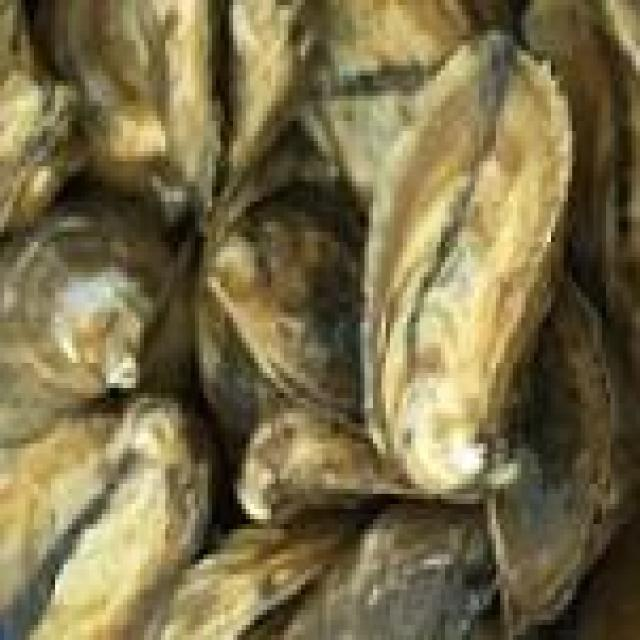Oyster- Indeterminate: (361, 36, 576, 500), (0, 409, 209, 640), (486, 279, 622, 611), (516, 0, 640, 321), (211, 185, 364, 433), (0, 197, 177, 409), (301, 0, 461, 204), (293, 504, 491, 640), (159, 514, 361, 640), (216, 0, 327, 204), (41, 0, 174, 153), (243, 416, 440, 512), (0, 0, 78, 227), (159, 0, 216, 202)
